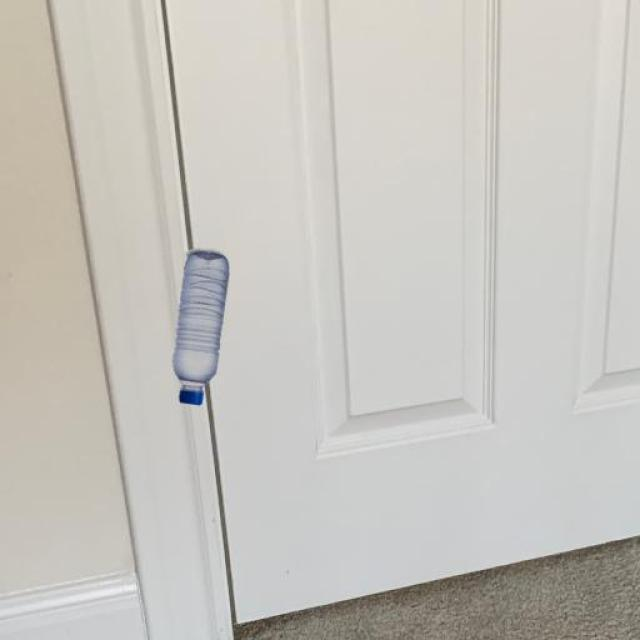bottle: (170, 247, 229, 405)
